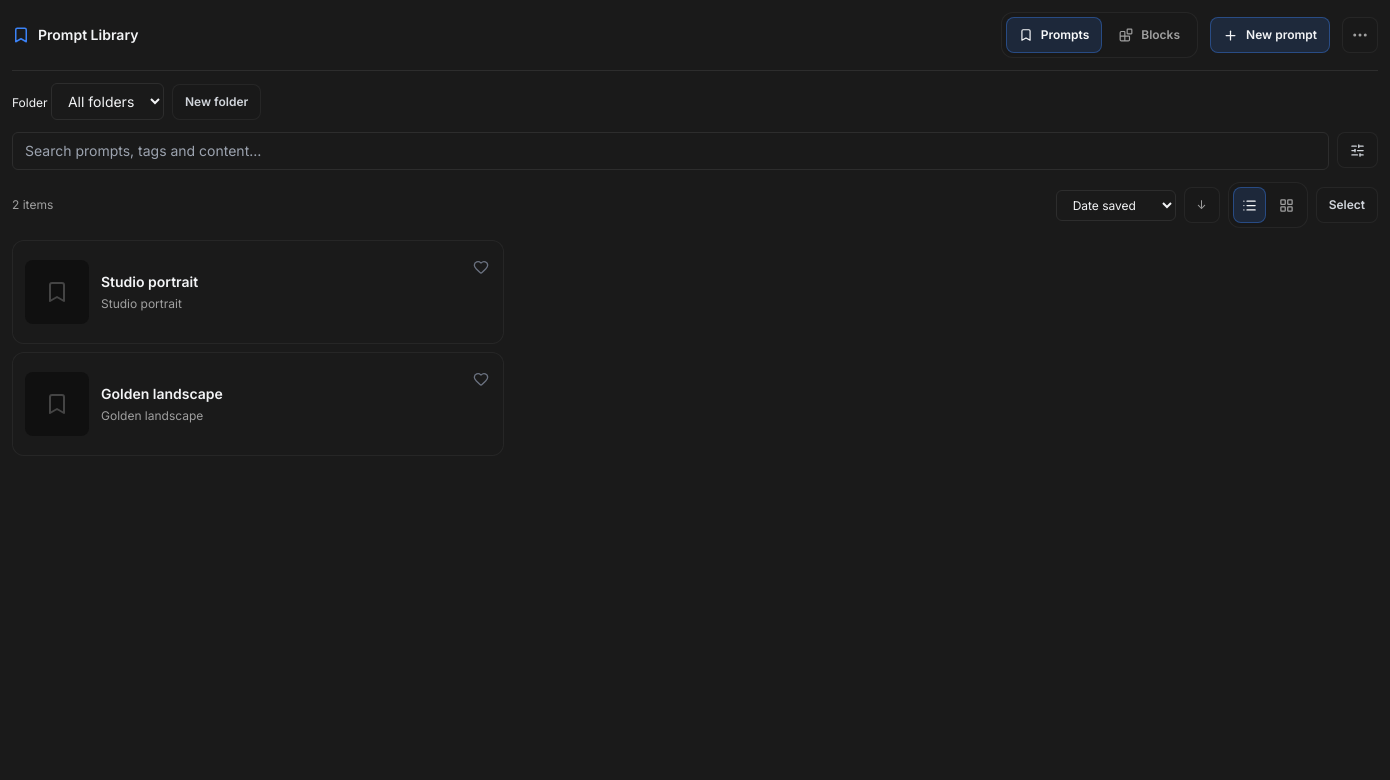
Test: integrated Prompt Library › waits for tag saves before card Edit on a prompt and uses the latest revision
Click the button with aria-label "Open Studio portrait" at (57, 292), box [25,260,491,324]
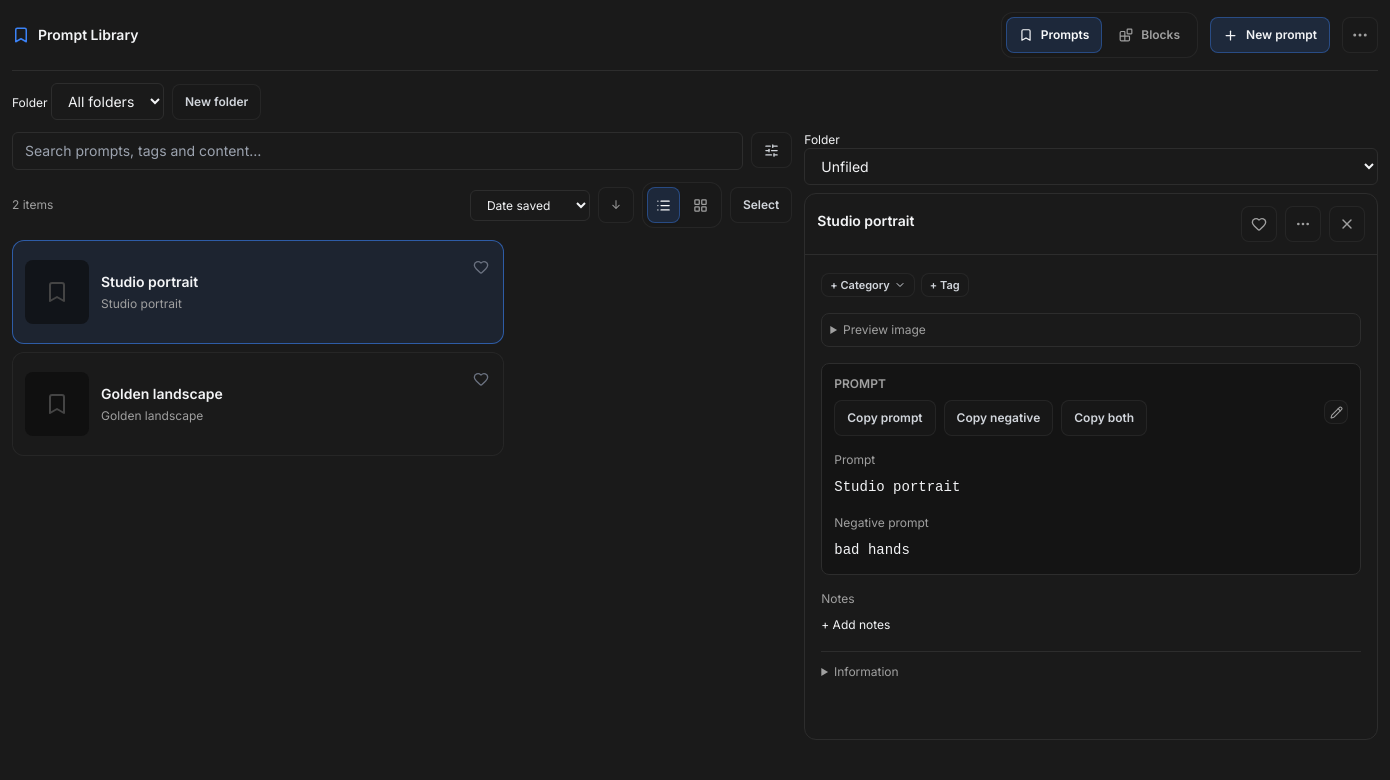
Click the button "+ Tag" at (945, 285), box [921,273,969,297]
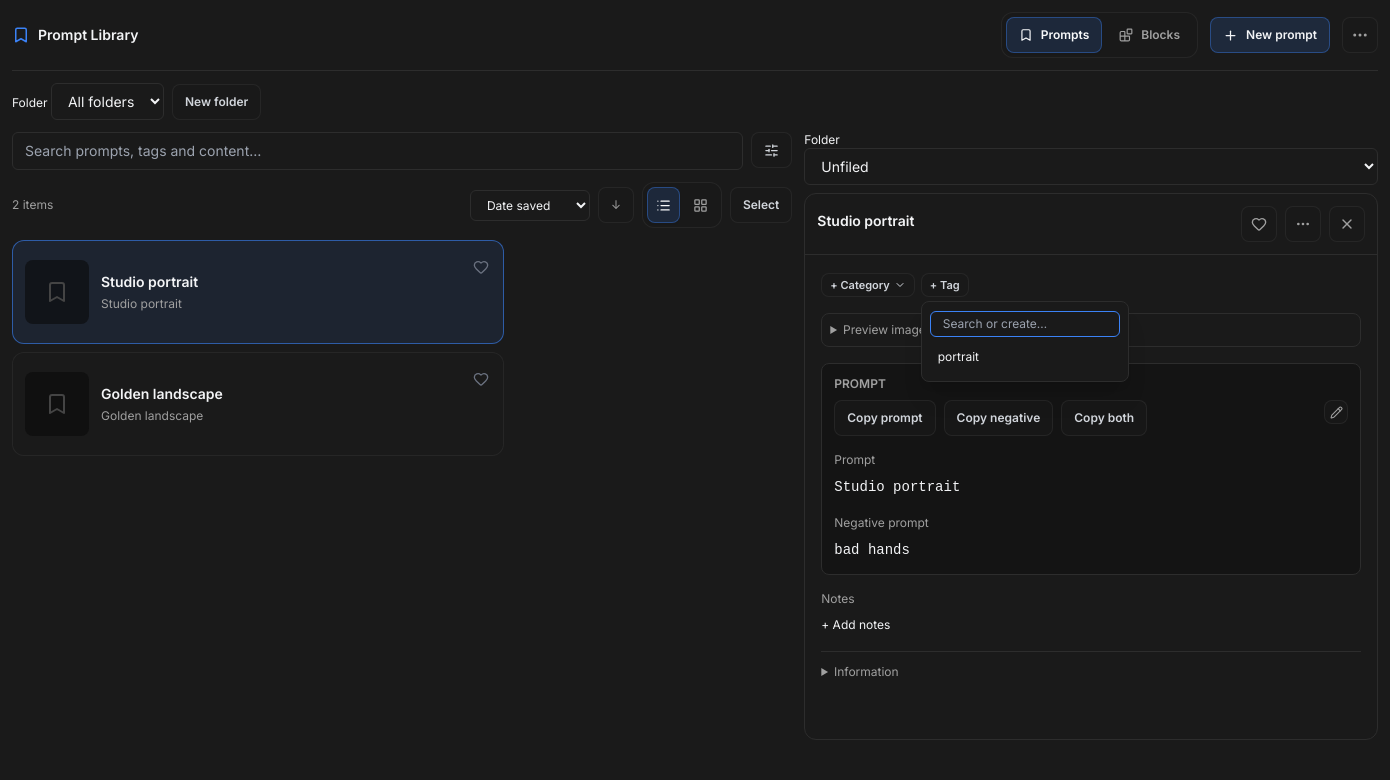
Type "new-tag" into the field named "Search or create tag" at (1025, 324), box [930,311,1120,337]
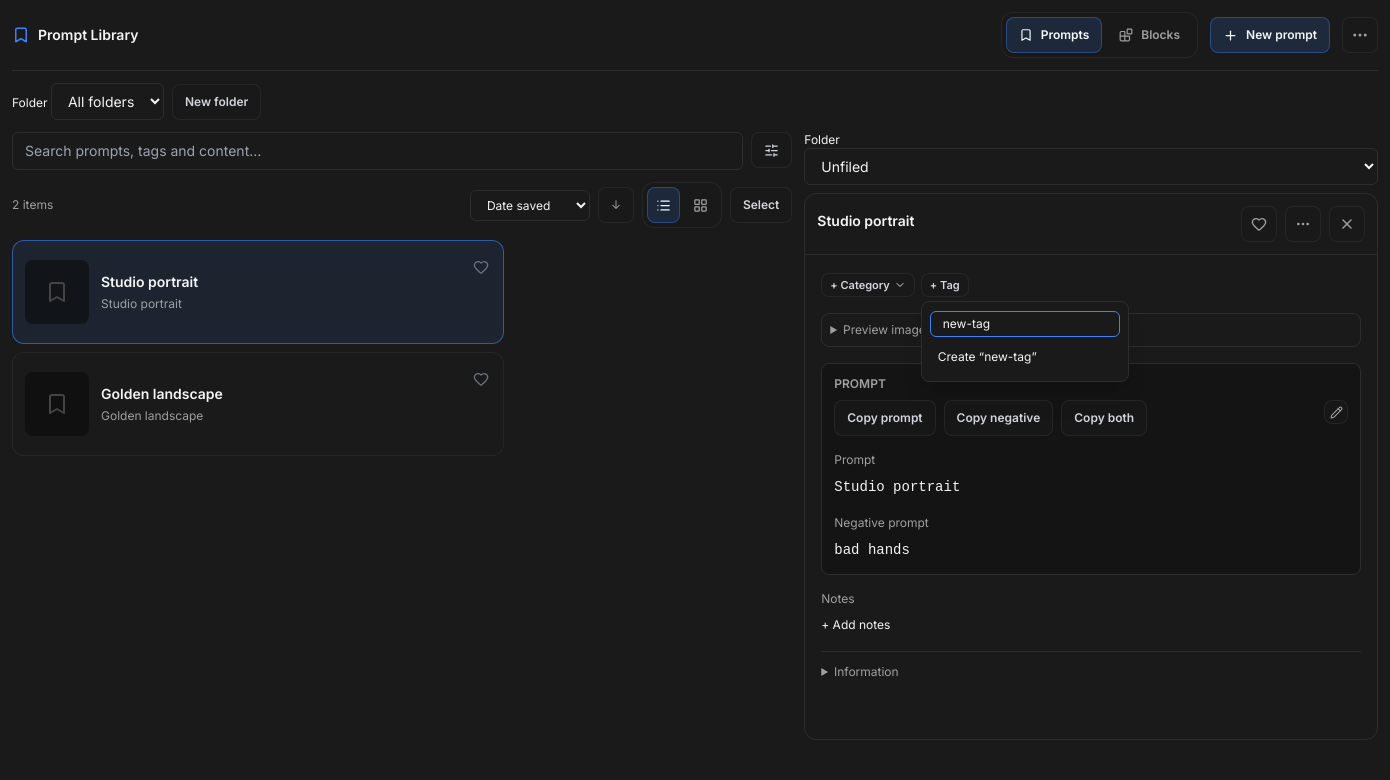
Press Enter in the field named "Search or create tag", box [930,311,1120,337]
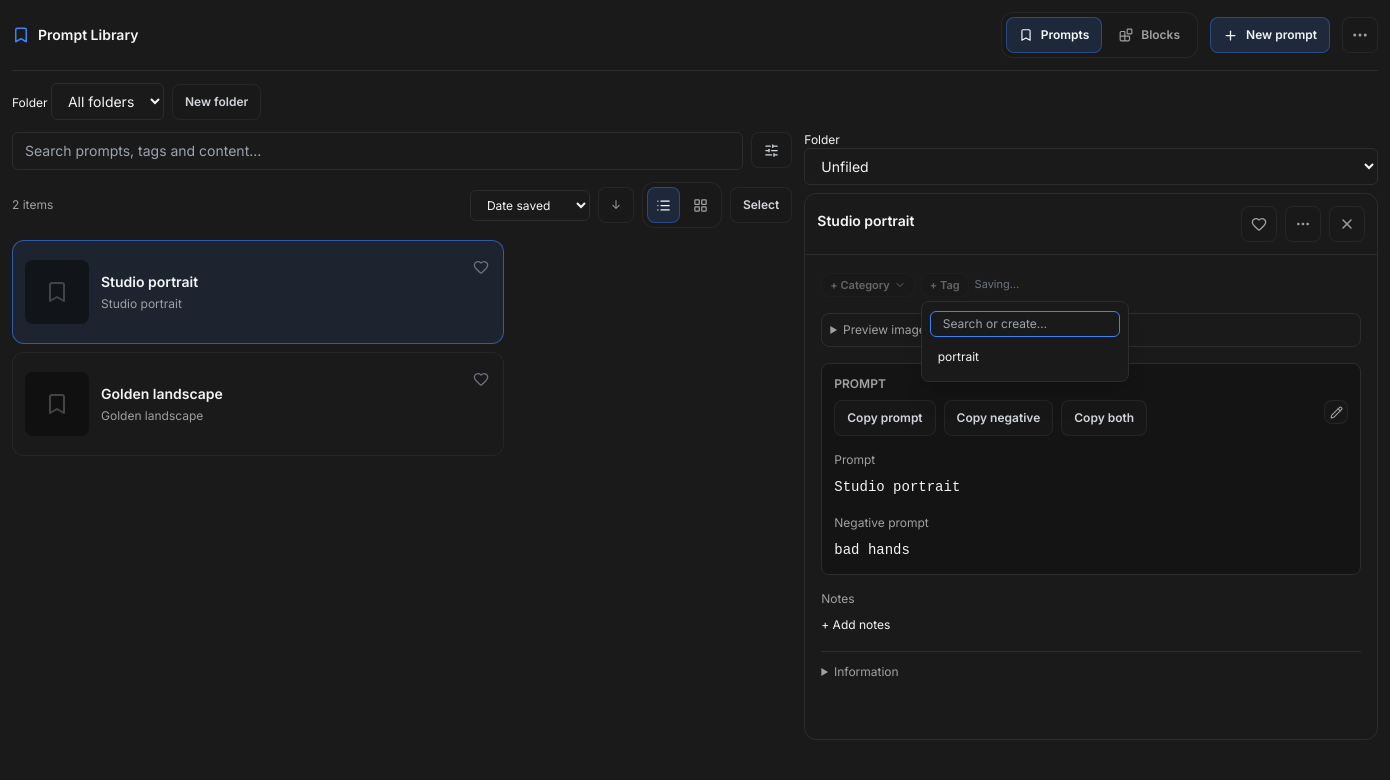
Right-click the element named "Open Studio portrait" at (258, 292), box [12,240,504,344]
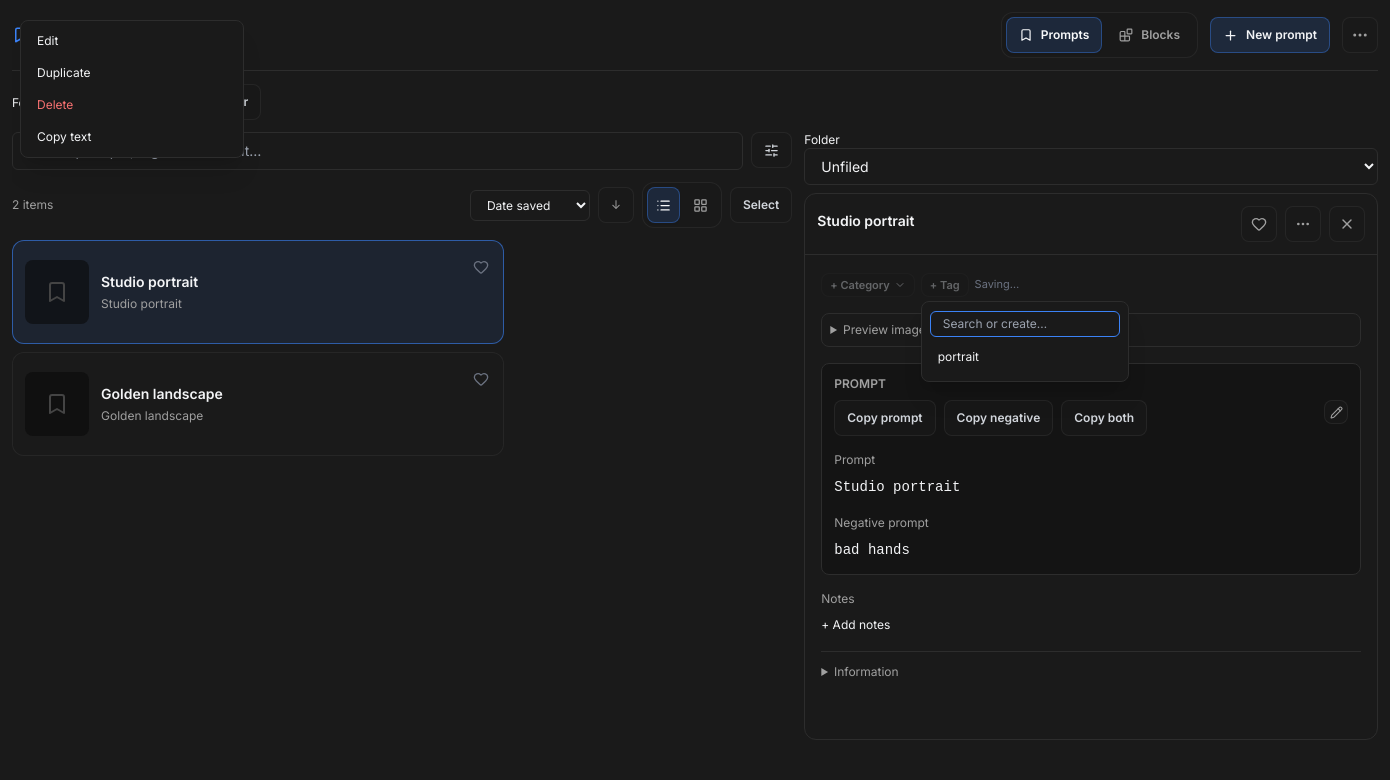
Click the menu item "Edit" at (132, 41), box [25,25,239,57]
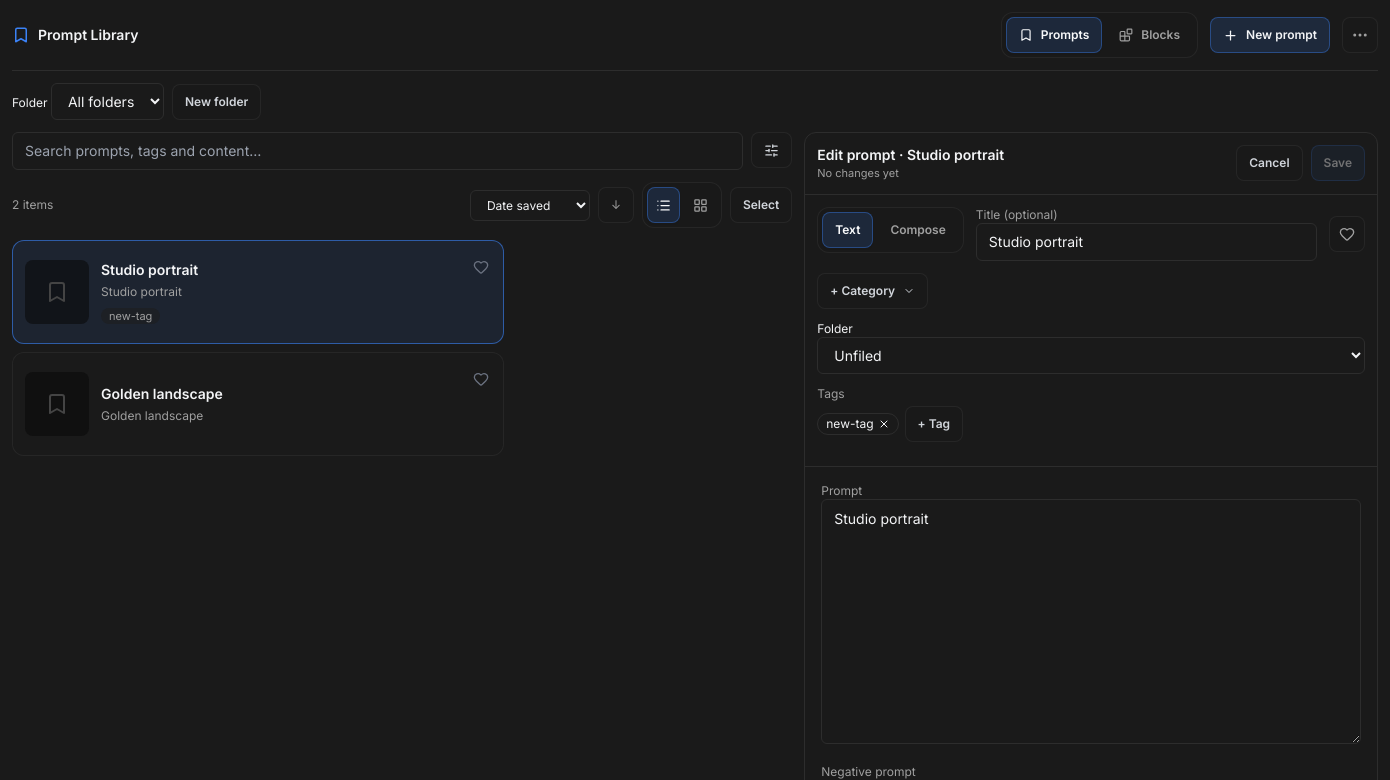
Check: the button named "Remove tag new-tag" is shown, box [878,418,890,430]
Check: the message "Saving…" is gone
